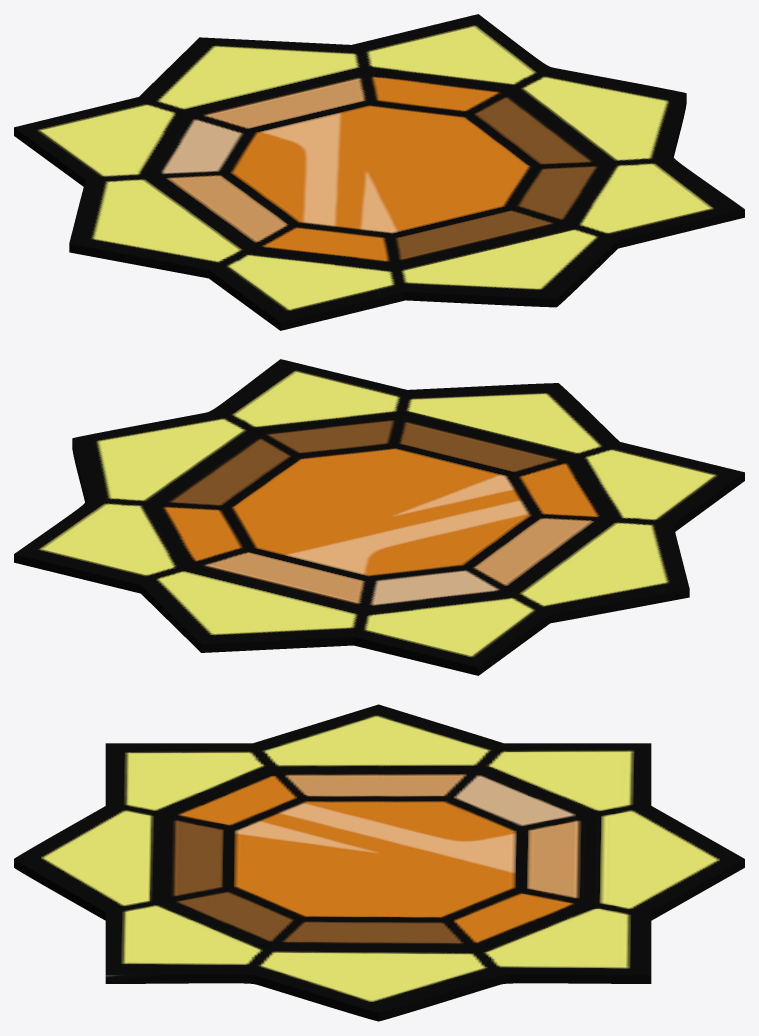
The picture shows the model from 3 angles, top to bottom: view 1: azimuth 30°, elevation 25°; view 2: azimuth 150°, elevation 25°; view 3: azimuth 270°, elevation 25°; orthographic projection. The views are drawn at different scales.
Visible parts, largest first — view 1: path24; view 2: path24; view 3: path24.
Boxes of the visible parts, x1=… form: path24: x1=14, y1=14, x2=744, y2=330; path24: x1=14, y1=359, x2=744, y2=675; path24: x1=14, y1=704, x2=744, y2=1021.
Bounding box in the file's own units: 114 × 1.5 × 114.
1 material, 1 textured.
